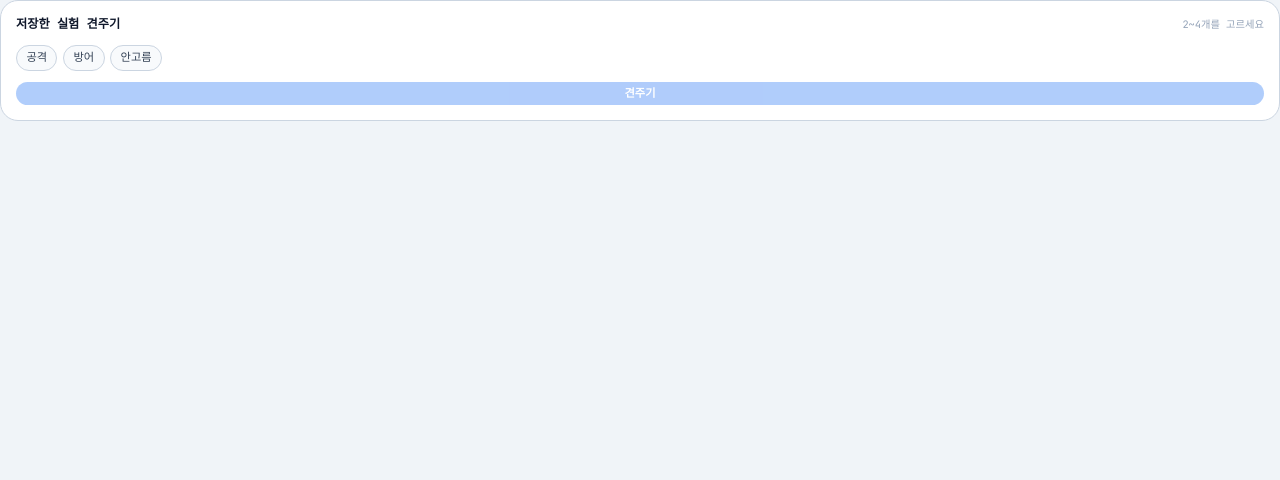
Test: 실험 견주기 › 고른 것을 돌려 한 표에 놓고, 나은 쪽을 표시한다 — 낙폭은 작은 쪽
Click the button "공격". click: (37, 58)
box: [16, 45, 58, 70]
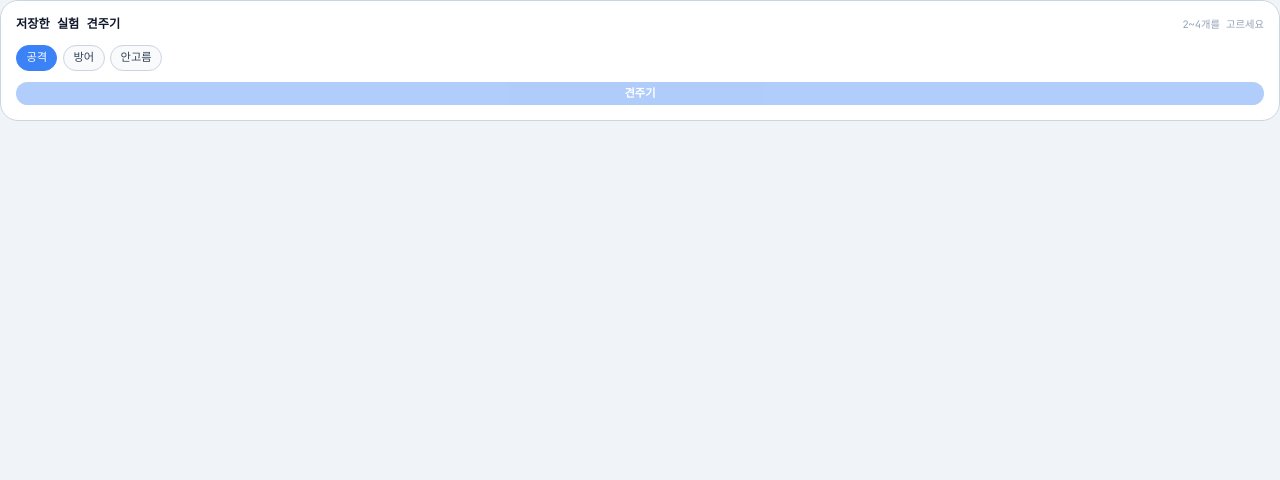
Click the button "방어". click: (84, 58)
box: [63, 45, 105, 70]
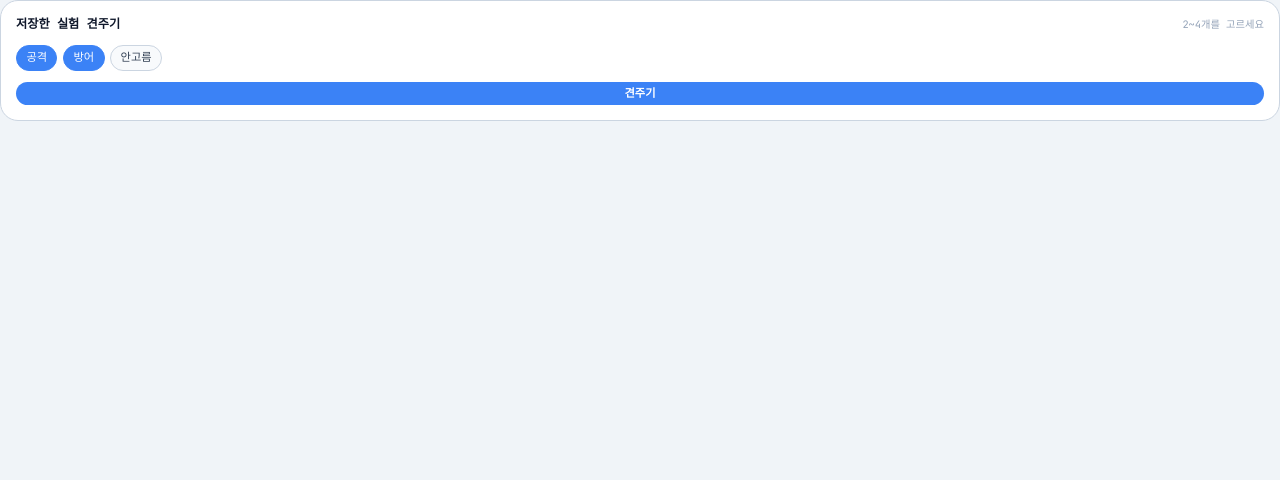
Click the button "견주기". click: (640, 94)
box: [16, 82, 1264, 105]
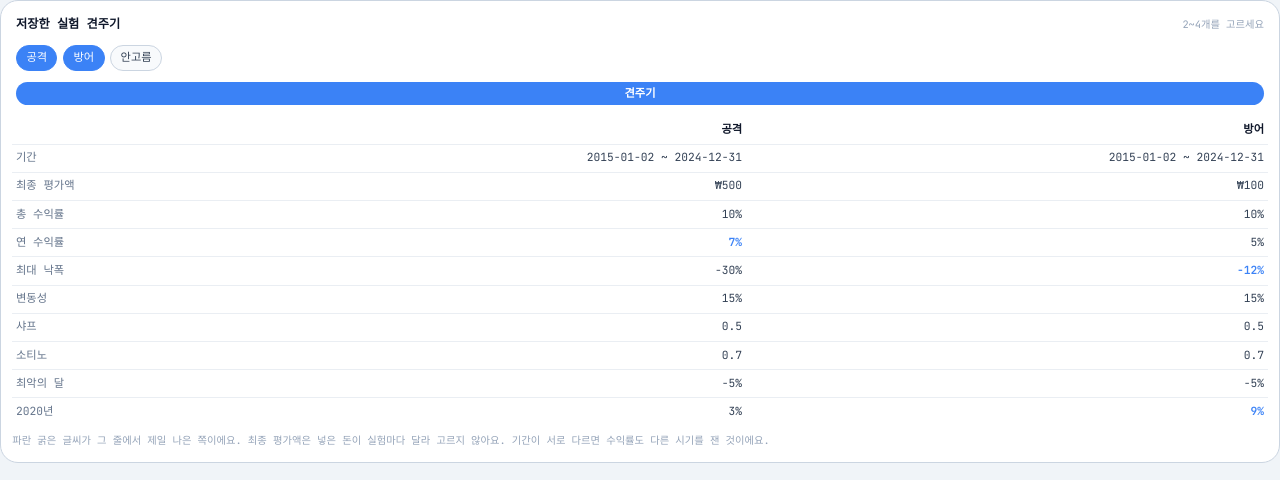
Expected: the text "연 수익률" is shown, [12, 229, 224, 257]
